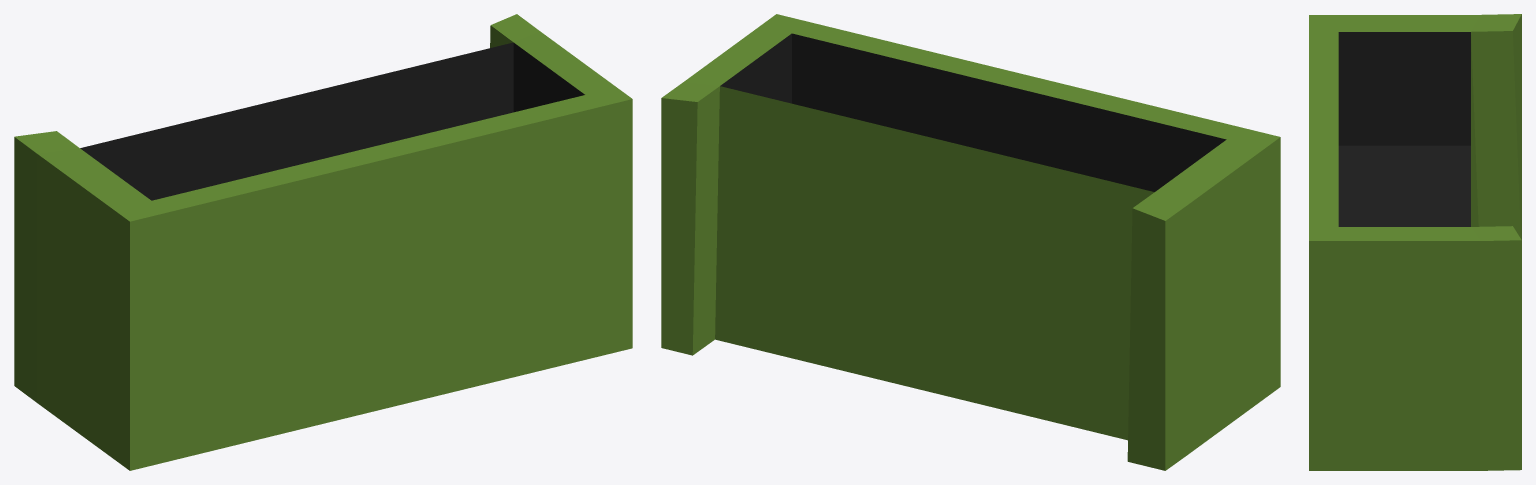
The model's file is OpenedATM.fbx.
3 views of the same model, side by side, from view 1: azimuth 30°, elevation 25°; view 2: azimuth 150°, elevation 25°; view 3: azimuth 270°, elevation 25° (orthographic). The views are drawn at different scales.
Visible parts, largest first — view 1: Cube.013; view 2: Cube.013; view 3: Cube.013.
Part boxes in pixels (x1,y1,x2,y2): Cube.013: (14,14,632,470); Cube.013: (661,14,1280,470); Cube.013: (1309,14,1521,470).
Size of the model in its own units: 95.08 by 45.14 by 37.74.
1 material, 1 textured.
